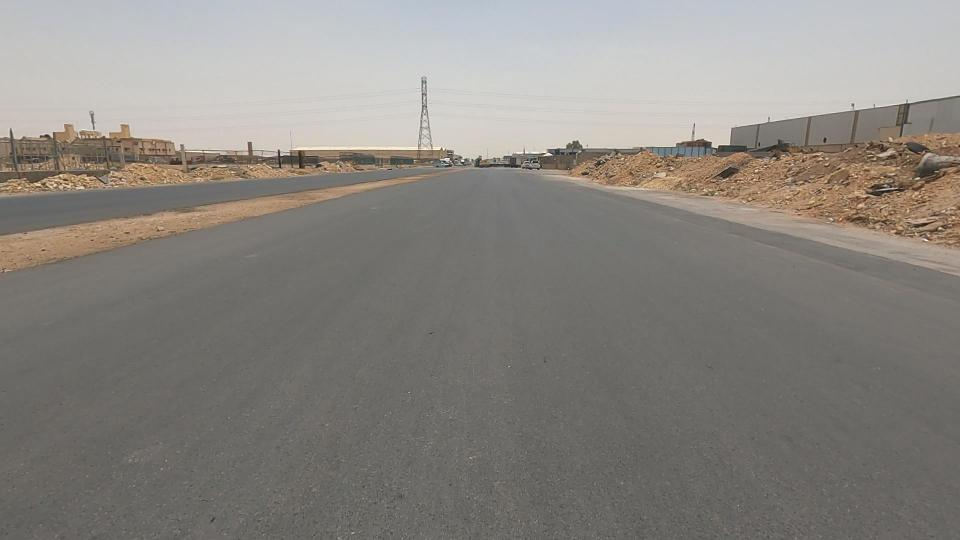CLUTTER_SIDEWALK: (0, 187, 216, 298), (122, 167, 295, 258), (251, 167, 350, 220)
GARBAGE: (821, 103, 960, 238), (690, 147, 765, 212)
SAND_ON_ROAD: (725, 118, 883, 249), (606, 124, 713, 214), (552, 132, 651, 195), (84, 147, 199, 194)
